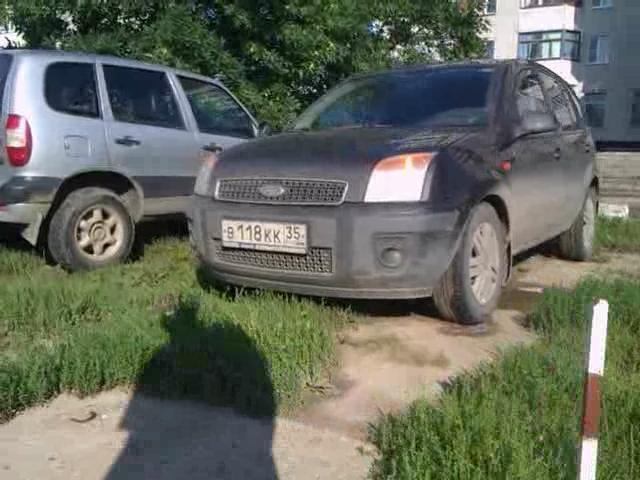license-plateSW: (220, 220, 306, 248)
